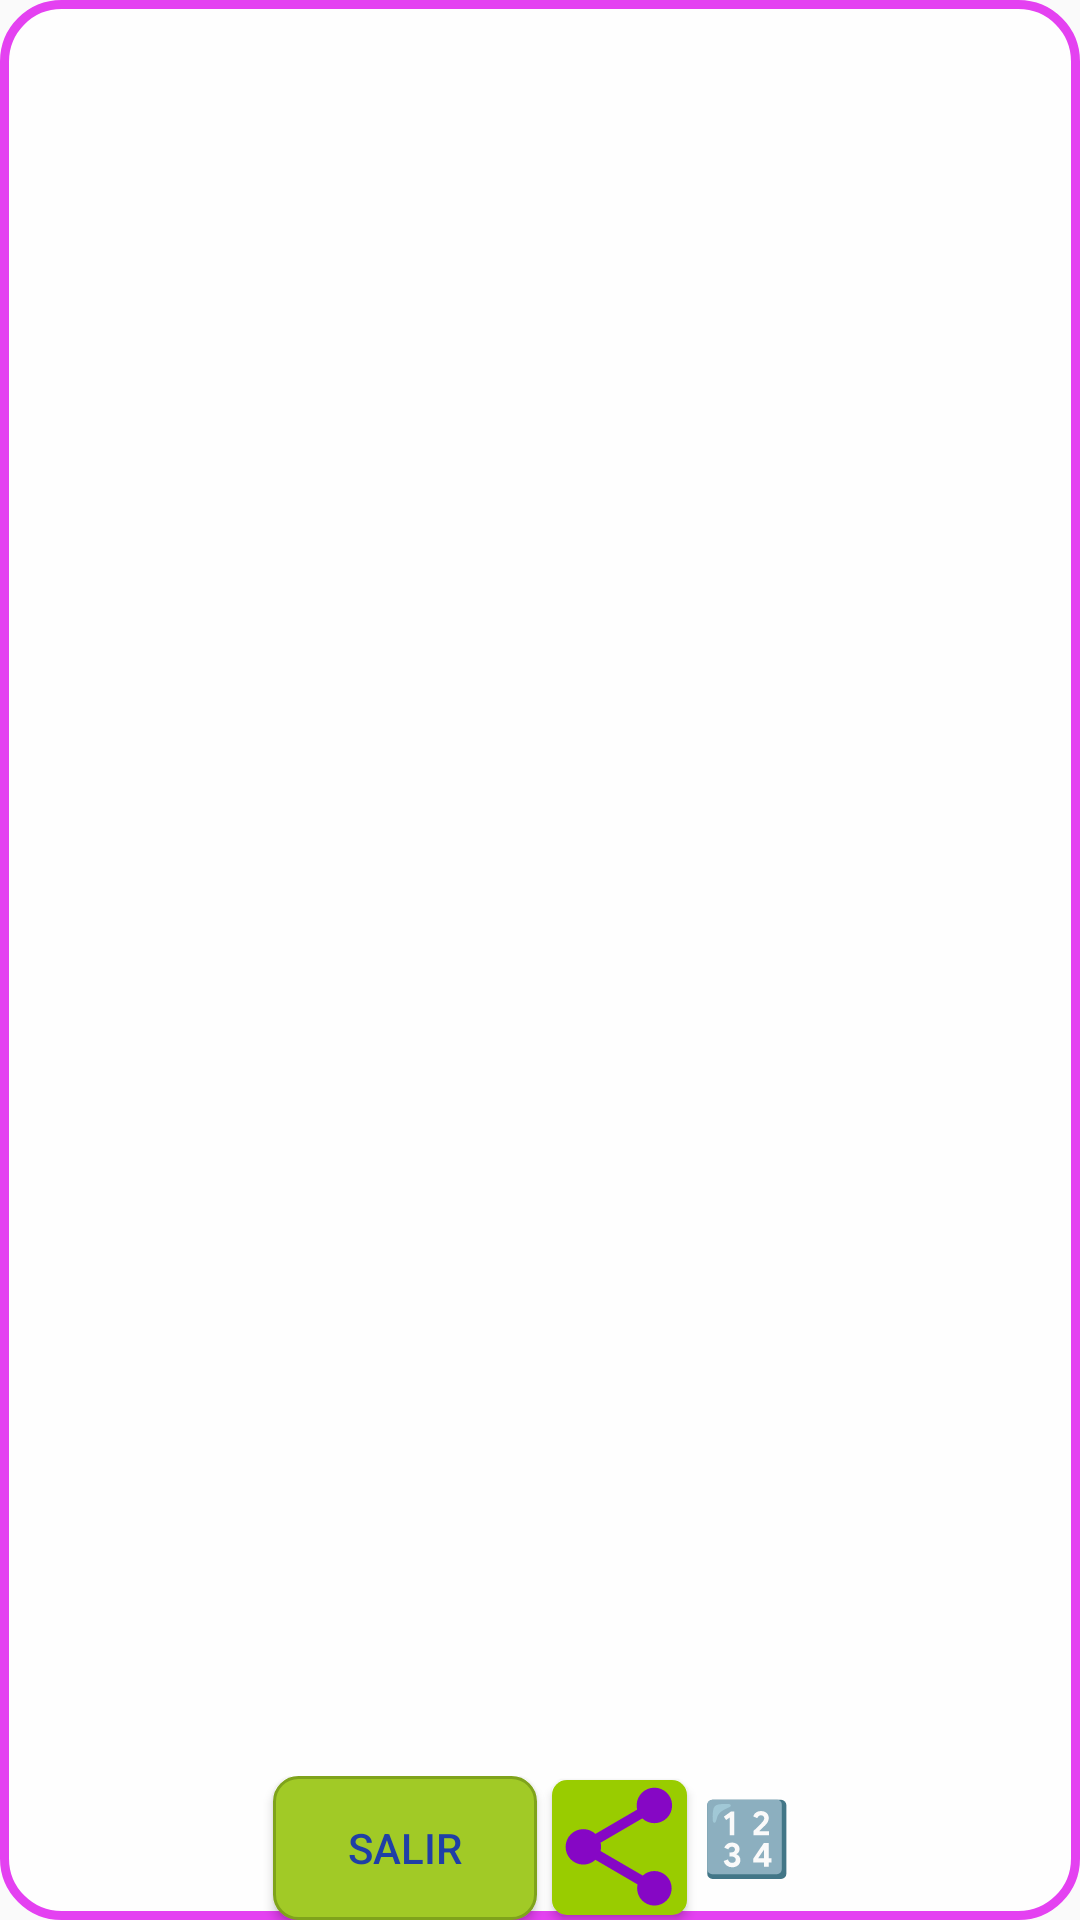

Icon bounding boxes for this 1080w x 1920h phone screenshot, format (x1, y1, x2, y2):
share: (552, 1780, 687, 1915)
